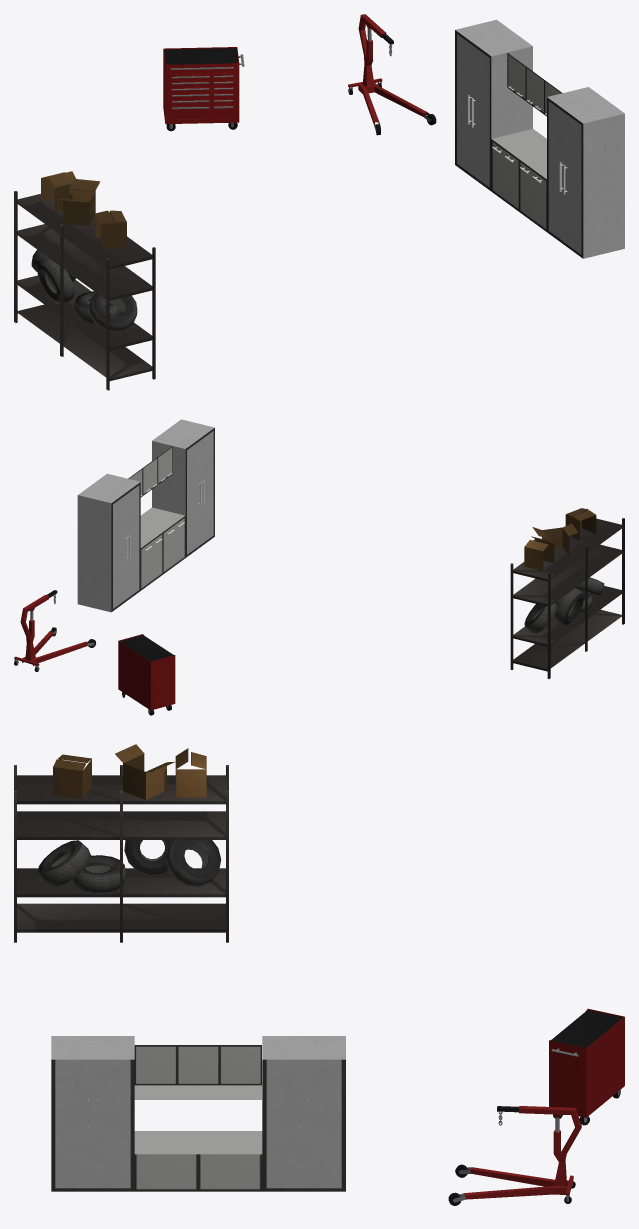
File: GarageScene.fbx
3 renders of one model, top to bottom at view 1: azimuth 30°, elevation 25°; view 2: azimuth 150°, elevation 25°; view 3: azimuth 270°, elevation 25°, orthographic. The views are drawn at different scales.
Parts seen in each view (by area): view 1: LargToolbox, Shelves, RollingToolbox, SpareTires, EngineLift; view 2: LargToolbox, Shelves, RollingToolbox, SpareTires, EngineLift; view 3: LargToolbox, Shelves, RollingToolbox, SpareTires, EngineLift.
Boxes of the visible parts, x1,y1,x2,y2 form: LargToolbox: (455,19,624,258); Shelves: (14,171,155,390); RollingToolbox: (163,47,244,131); SpareTires: (31,249,137,332); EngineLift: (348,14,436,135); LargToolbox: (77,419,214,612); Shelves: (510,508,624,679); RollingToolbox: (118,634,175,715); SpareTires: (524,577,604,633); EngineLift: (14,590,96,671); LargToolbox: (51,1036,345,1191); Shelves: (14,744,228,942); RollingToolbox: (549,1008,624,1125); SpareTires: (38,840,221,892); EngineLift: (448,1106,581,1205).
Bounding box in the file's own units: 955 × 263 × 820.
